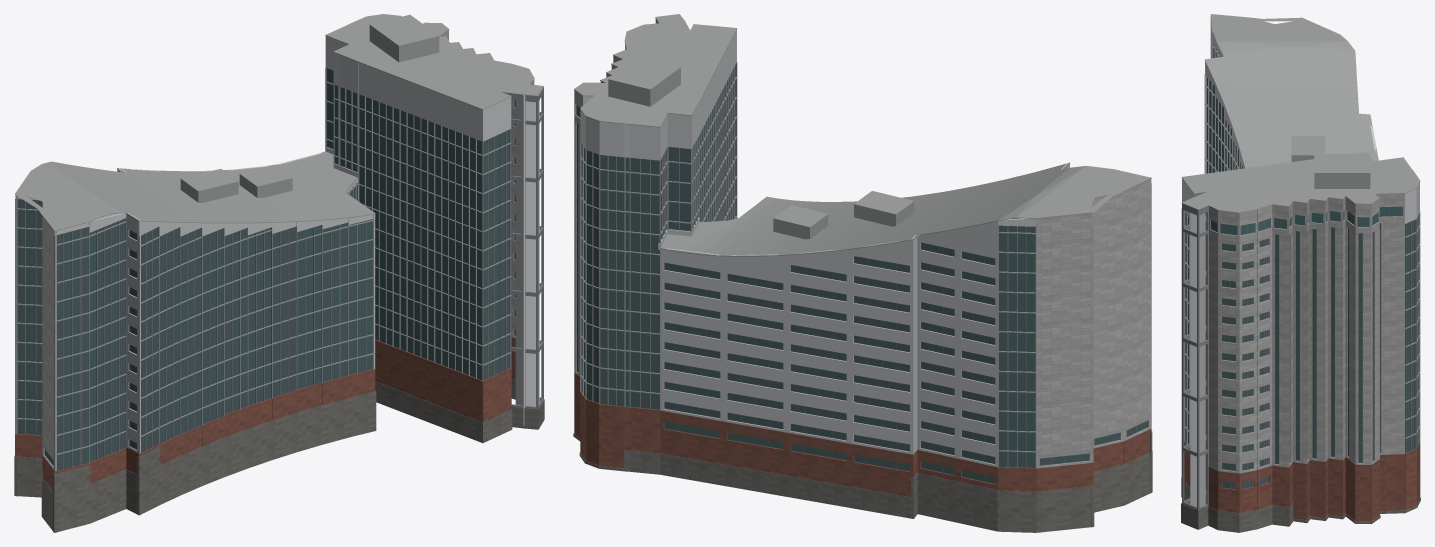
3 renders of one model, left to right at view 1: azimuth 30°, elevation 25°; view 2: azimuth 150°, elevation 25°; view 3: azimuth 270°, elevation 25°, orthographic. The views are drawn at different scales.
Parts seen in each view (by area): view 1: hyungnam__glass, hyungnam__mull, hyungnam__roof, hyungnam__base, hyungnam__alu, hyungnam__granite, hyungnam__tile, hyungnam__steel; view 2: hyungnam__glass, hyungnam__alu, hyungnam__roof, hyungnam__tile, hyungnam__granite, hyungnam__base, hyungnam__mull, hyungnam__frame; view 3: hyungnam__tile, hyungnam__roof, hyungnam__glass, hyungnam__granite, hyungnam__mull, hyungnam__alu, hyungnam__frame, hyungnam__steel, hyungnam__base, hyungnam__glass2.
Boxes of the visible parts, x1,y1,x2,y2 form: hyungnam__glass: (17, 68, 515, 470); hyungnam__mull: (15, 67, 511, 472); hyungnam__roof: (15, 14, 543, 231); hyungnam__base: (14, 378, 544, 532); hyungnam__alu: (15, 36, 539, 453); hyungnam__granite: (15, 337, 515, 490); hyungnam__tile: (15, 30, 534, 470); hyungnam__steel: (503, 87, 543, 408); hyungnam__glass: (577, 63, 1147, 483); hyungnam__alu: (580, 20, 1150, 467); hyungnam__roof: (574, 14, 1151, 256); hyungnam__tile: (574, 43, 1151, 468); hyungnam__granite: (574, 373, 1151, 496); hyungnam__base: (573, 431, 1152, 532); hyungnam__mull: (580, 62, 1151, 468); hyungnam__frame: (576, 105, 1148, 483); hyungnam__tile: (1209, 15, 1404, 473); hyungnam__roof: (1181, 14, 1420, 213); hyungnam__glass: (1185, 44, 1418, 488); hyungnam__granite: (1181, 438, 1420, 521); hyungnam__mull: (1181, 23, 1420, 458); hyungnam__alu: (1182, 24, 1419, 506); hyungnam__frame: (1210, 206, 1403, 489); hyungnam__steel: (1182, 192, 1208, 509); hyungnam__base: (1181, 476, 1420, 532); hyungnam__glass2: (1211, 206, 1402, 234).
Size of the model in its own units: 97 by 66.2 by 42.82.
10 materials, 3 textured.
